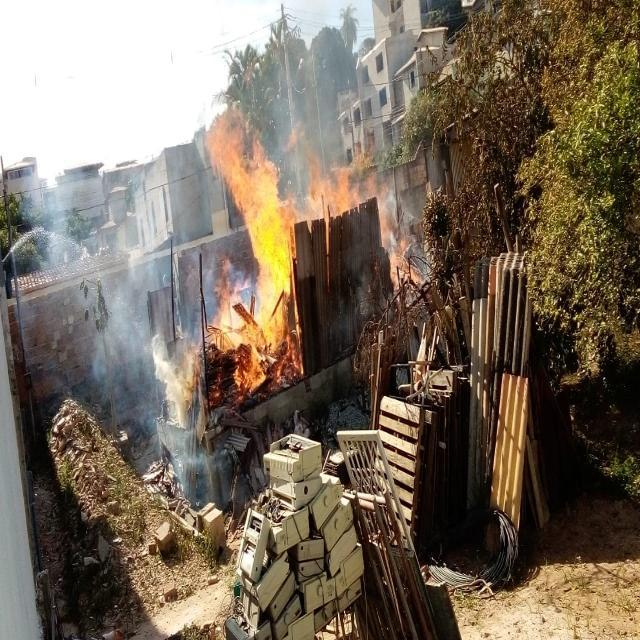Fire: (207, 102, 300, 375), (302, 116, 372, 208), (378, 179, 418, 282)
